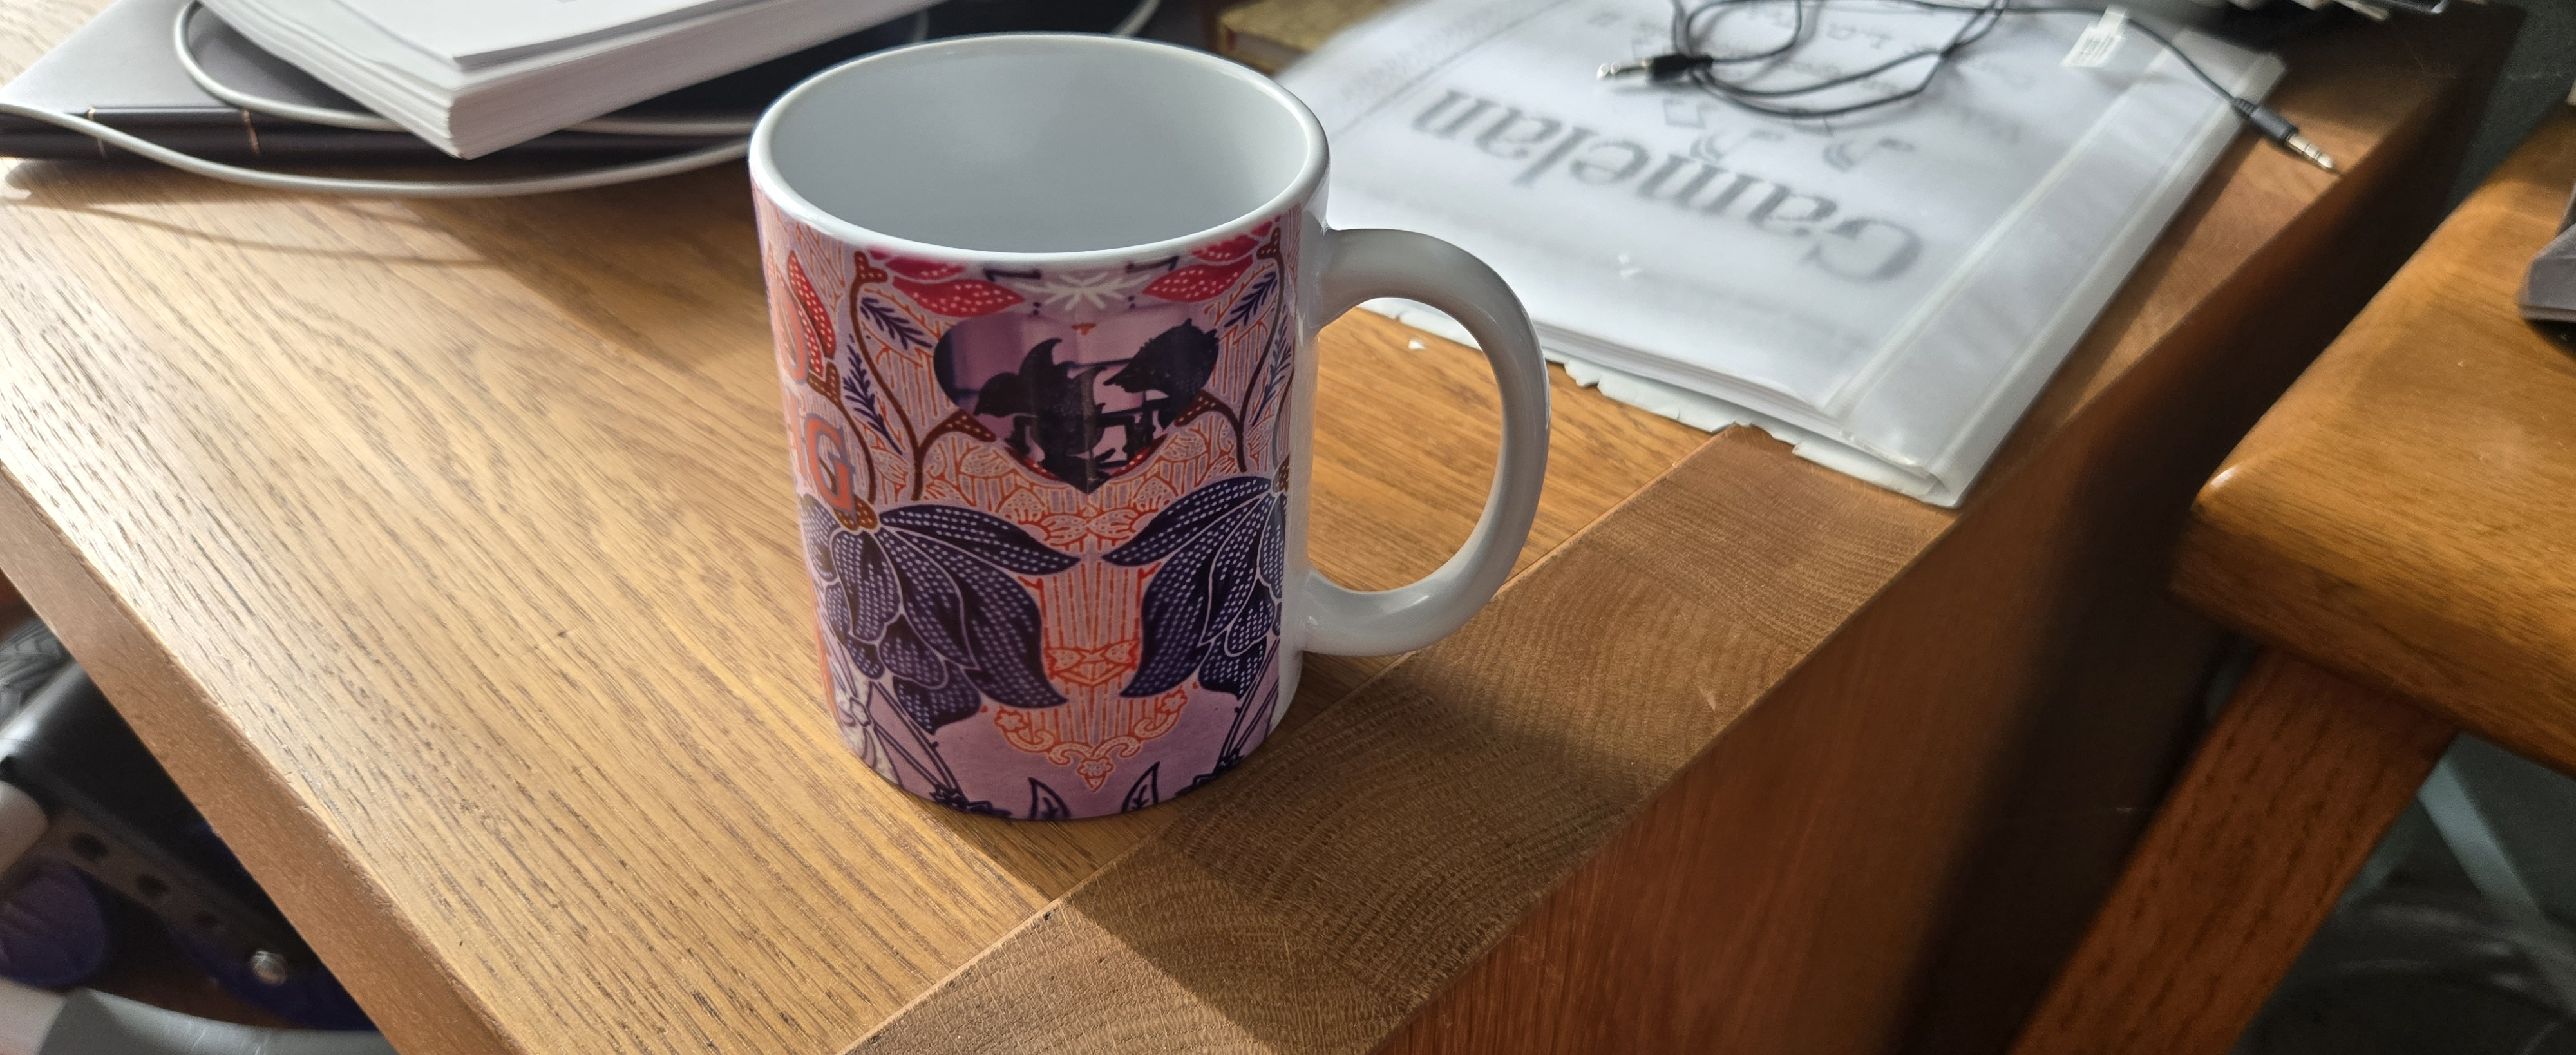mok: (675, 0, 1582, 869)
